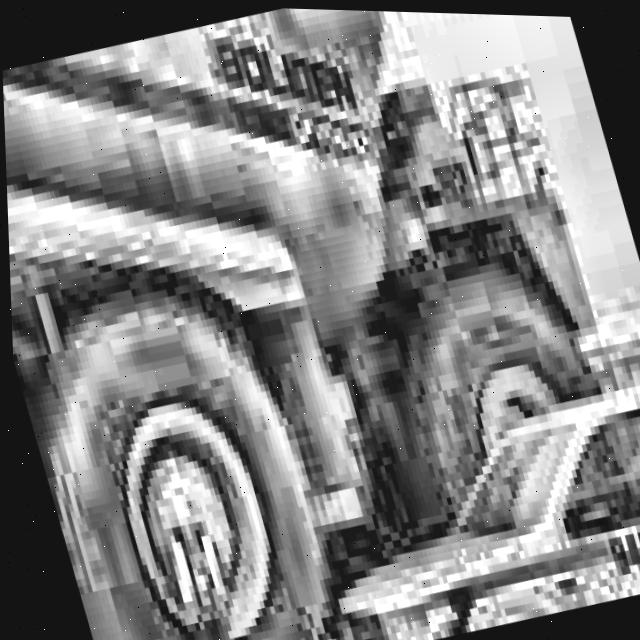light_vehicle: (252, 356, 640, 640)
